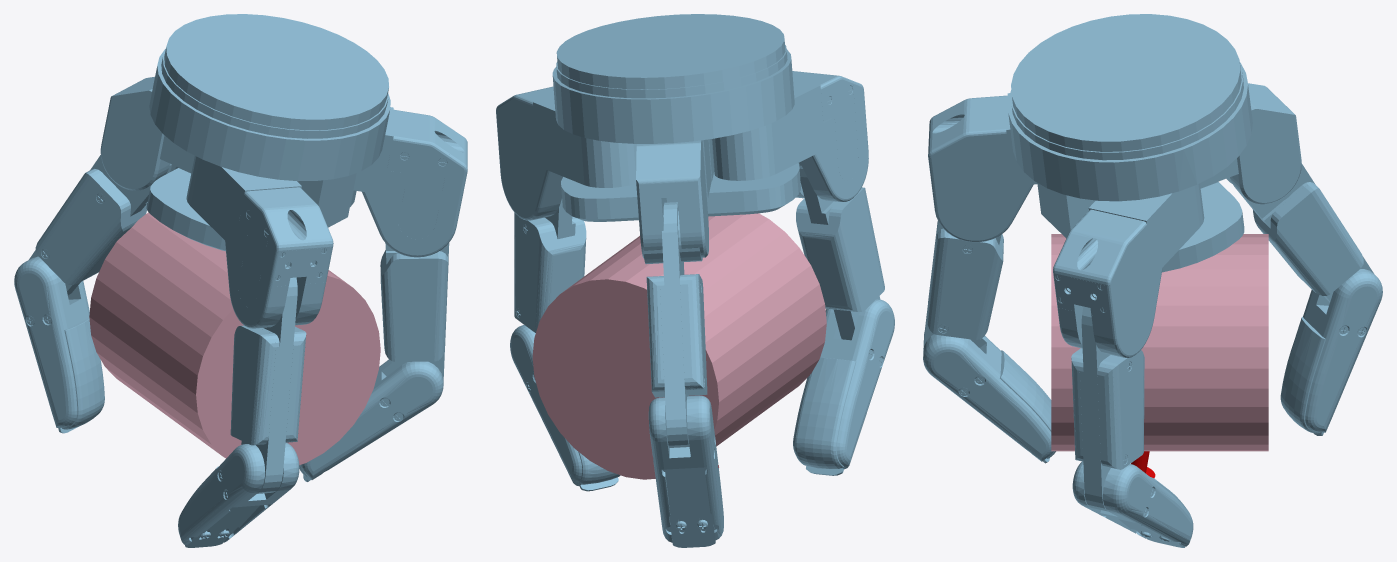
The picture shows the model from 3 angles, left to right: view 1: azimuth 30°, elevation 25°; view 2: azimuth 150°, elevation 25°; view 3: azimuth 270°, elevation 25°; orthographic projection.
Visible parts, largest first — view 1: world, cylinder_medium.stl; view 2: world, cylinder_medium.stl; view 3: world, cylinder_medium.stl.
Boxes of the visible parts, x1,y1,x2,y2 form: world: [14, 14, 467, 547]; cylinder_medium.stl: [89, 212, 380, 465]; world: [496, 14, 894, 547]; cylinder_medium.stl: [532, 213, 826, 479]; world: [923, 14, 1382, 547]; cylinder_medium.stl: [1051, 234, 1268, 451].
Bounding box in the file's own units: 0.1435 × 0.1892 × 0.1693.
